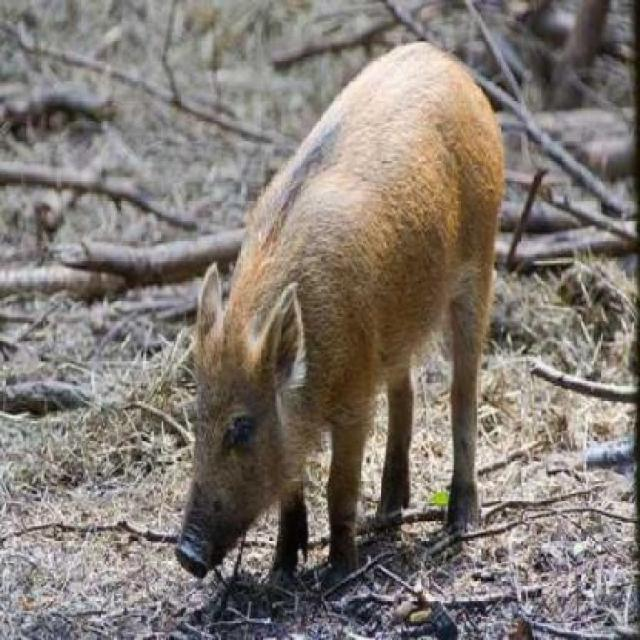pig: (126, 64, 575, 600)
